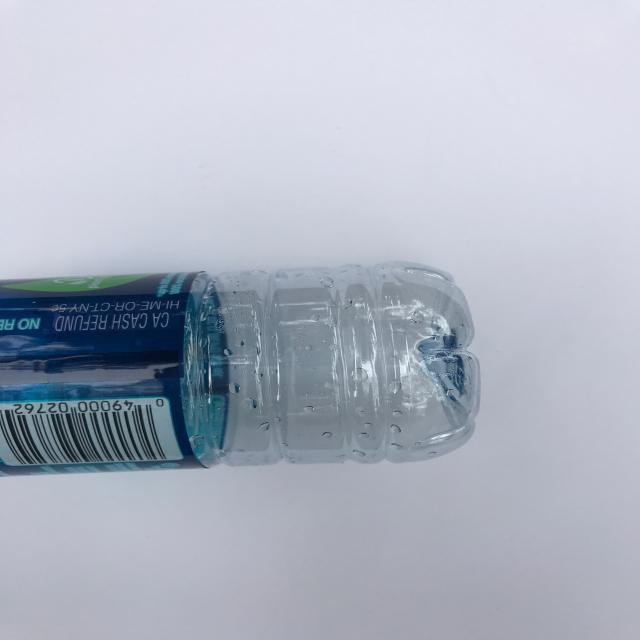plastic: (1, 270, 480, 473)
